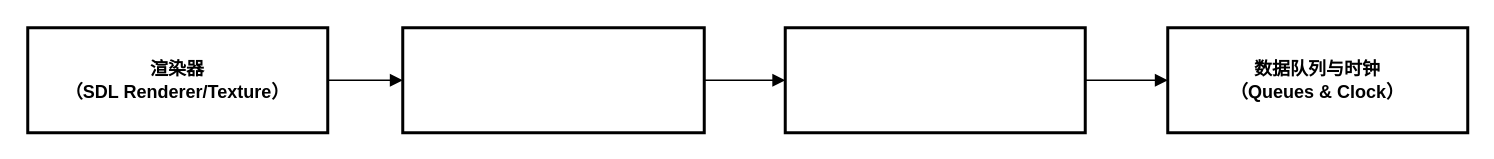
This 1494x159 diagram has some shape labels left out. Each missing label, with the box of its shape:
解封装器 （FFmpeg Demuxer）: (783, 26, 1086, 134)
解码器 （FFmpeg Decoders）: (400, 26, 705, 134)
